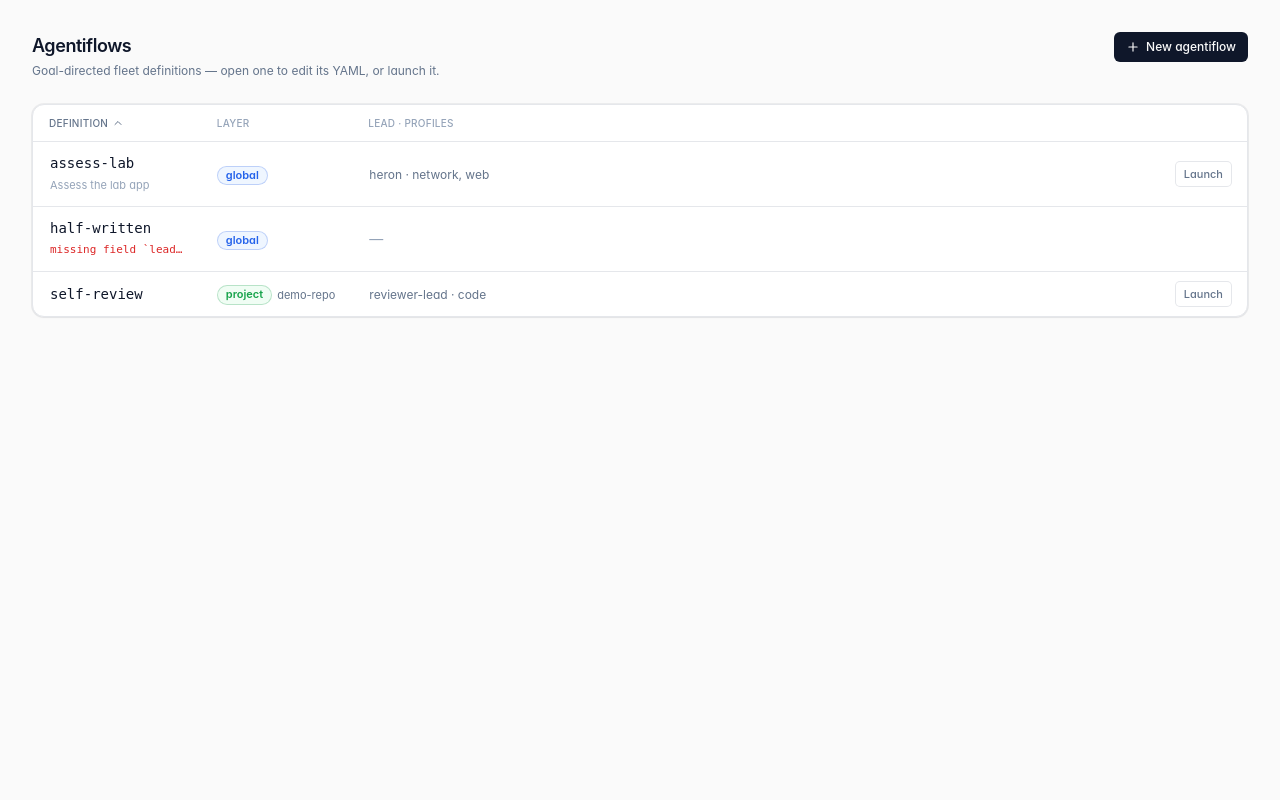
Test: AgentiflowDefs › New agentiflow shows a 409 from Create inline
What coordinates should you click on to do the following:
click the button "New agentiflow"
I would click on:
 (1181, 47)
Its box is [1114,32,1248,62].
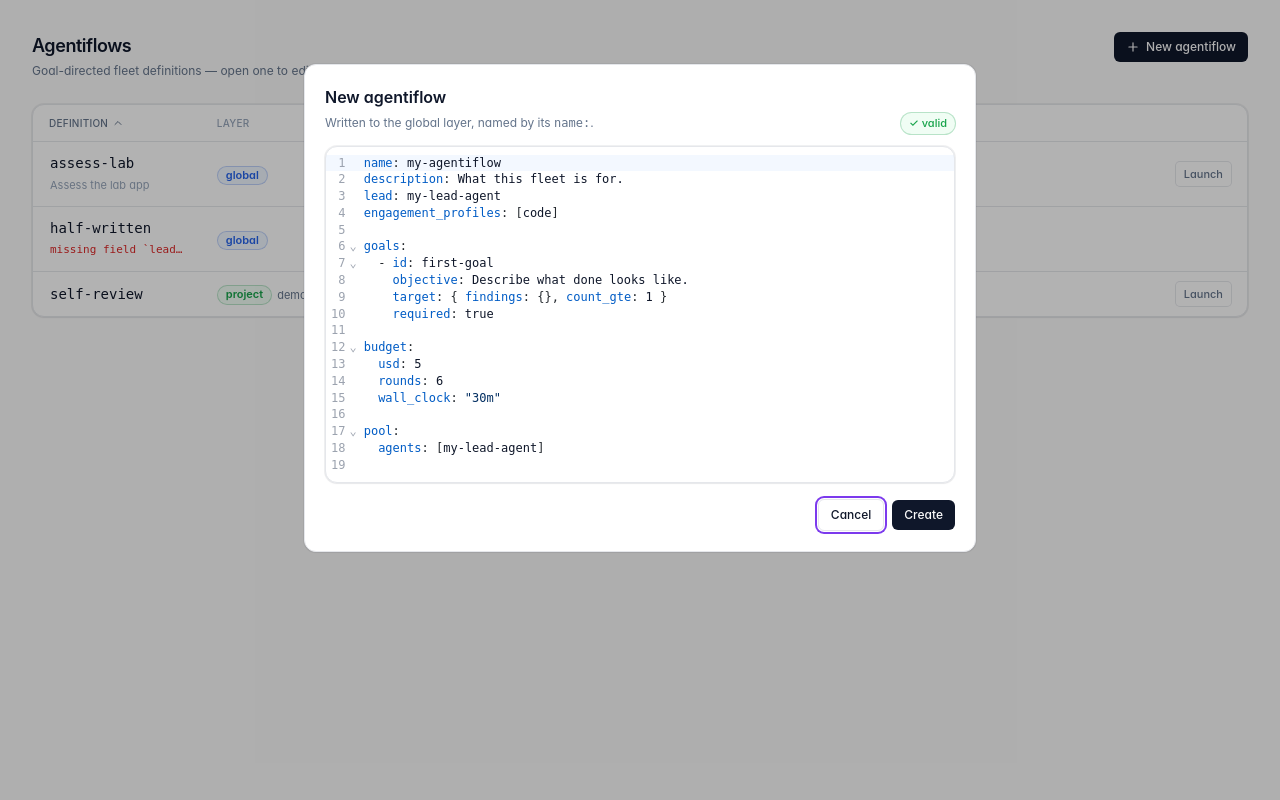
Expected: the text "✓ valid" is shown, [901,113,955,134]
What coordinates should you click on to do the following:
click the button "Create"
I would click on:
 (924, 515)
Its box is [892,500,955,530].
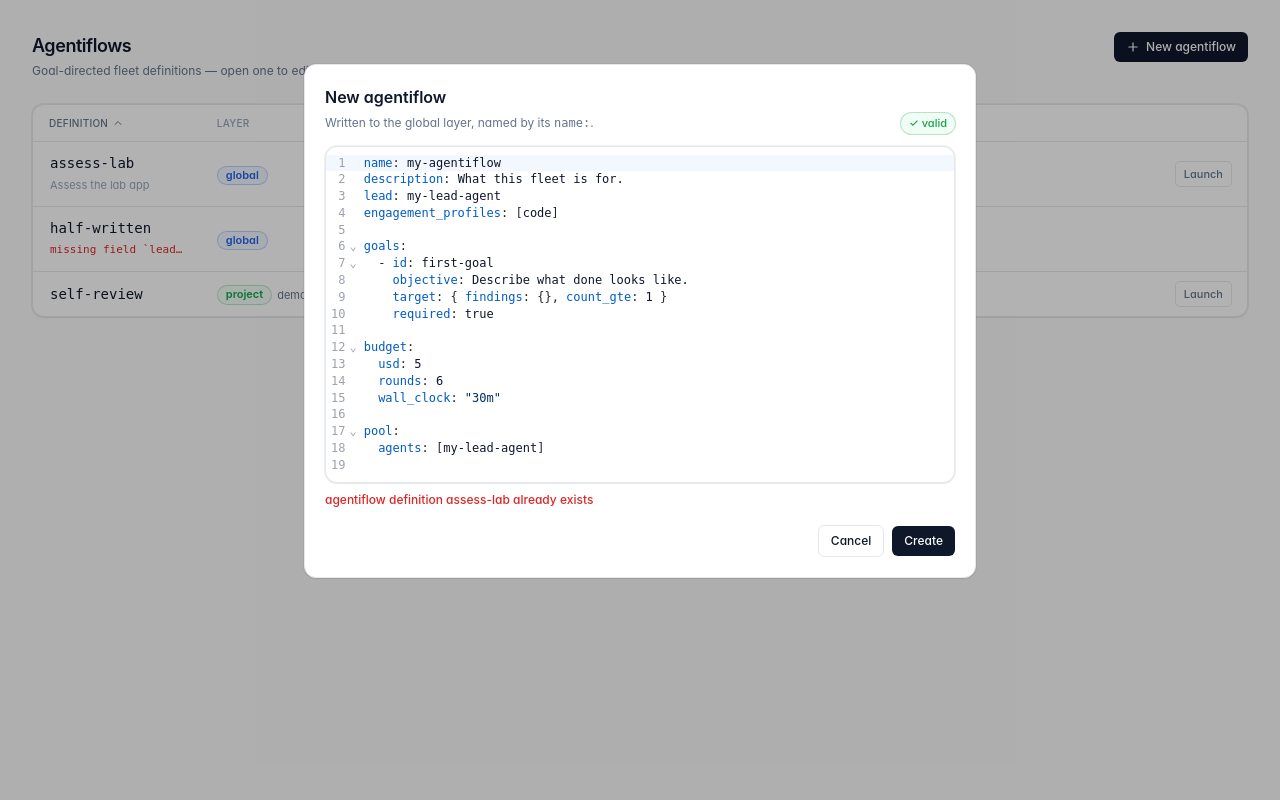
Expected: the message shows "already exists", [325,492,593,507]
